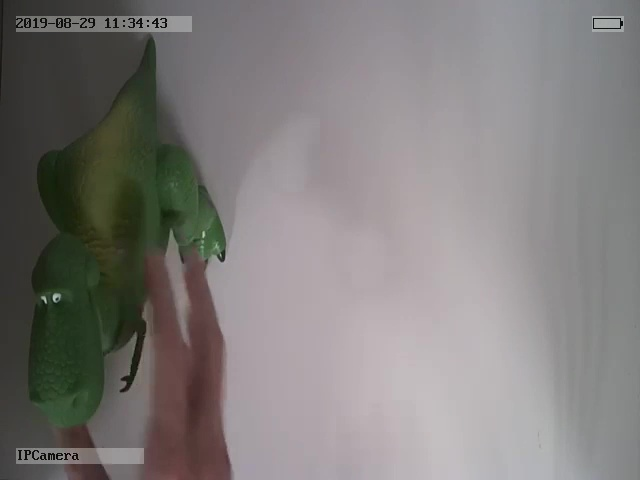rex: (26, 37, 226, 431)
